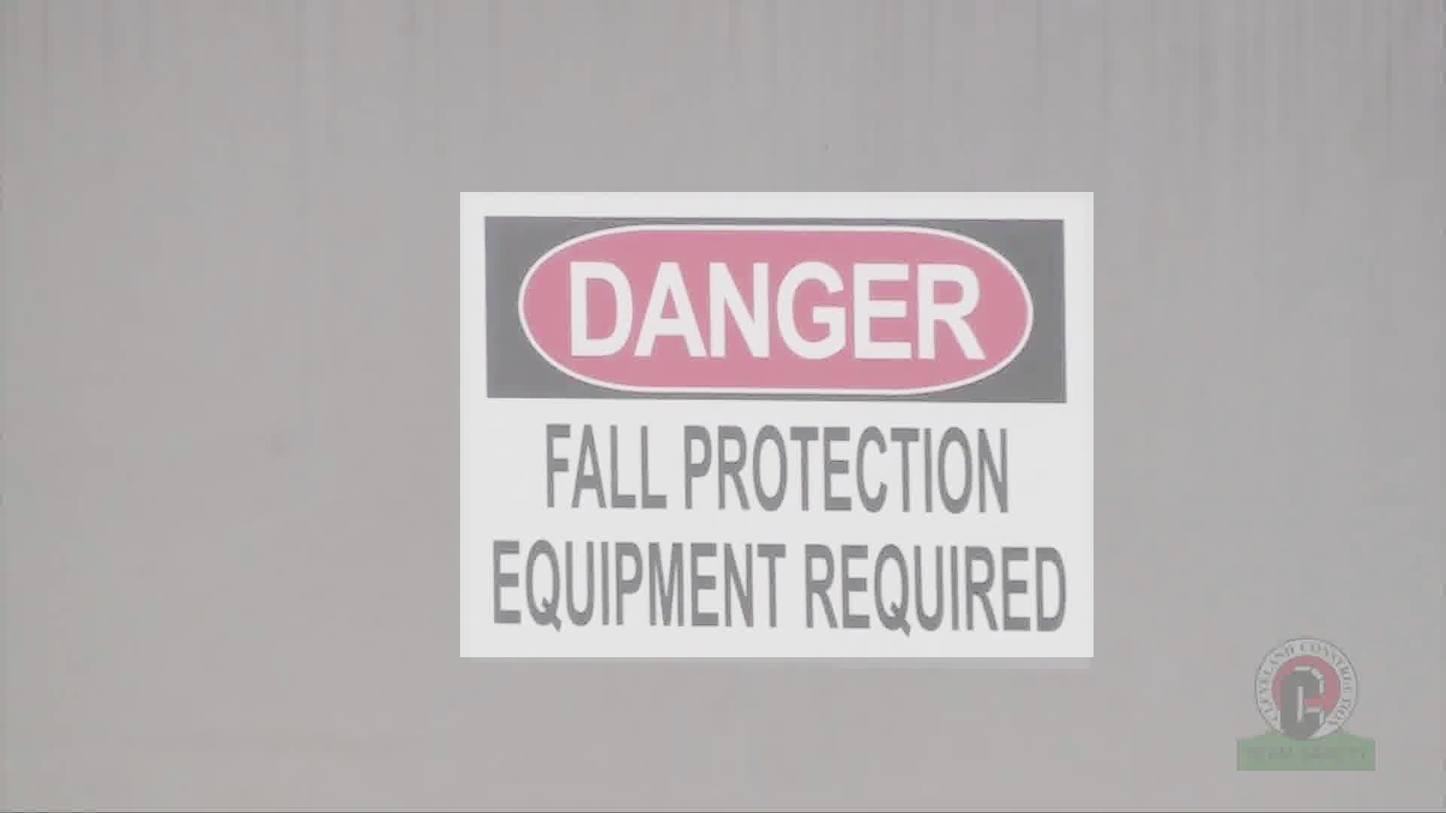safety_signage: (460, 192, 1094, 657)
